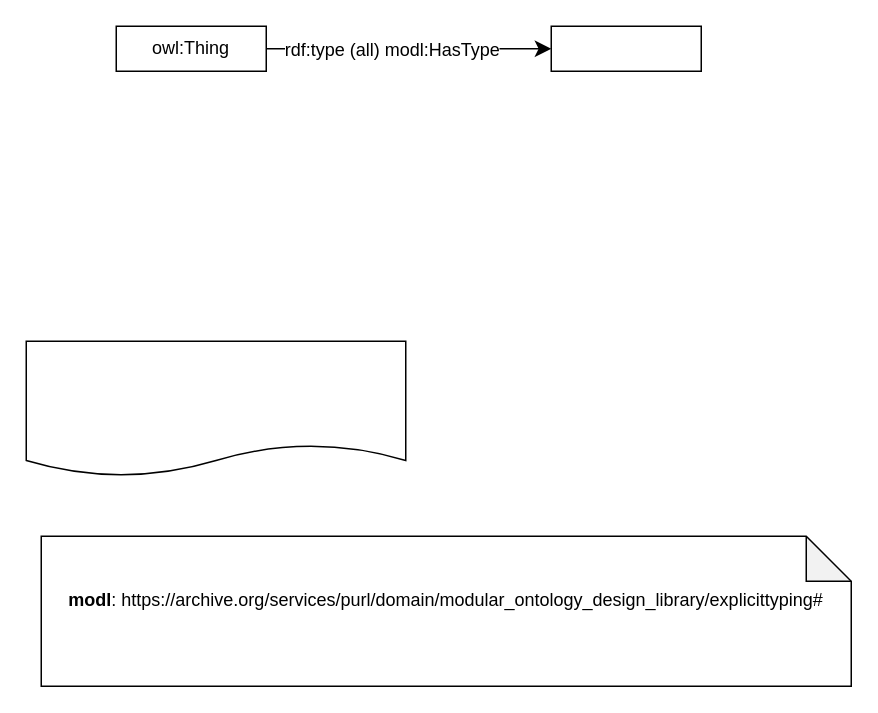
The diagram is 878 pixels wide and 713 high, and some of its shapes have lost their labels. The shapes that lost their labels are listed below. From the top down, each one's centre as x and y in pixels, then its label:
At [625,48]: "modl:Type".
At [215,408]: "dc:creator: Fanny Fweldon owl:versionInfo: 0.0.1 dc:title: Broken Ontology".
